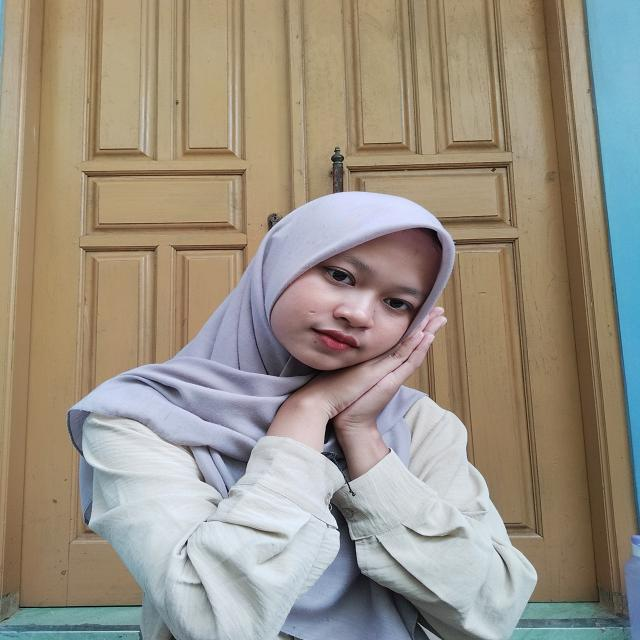tidur: (246, 309, 447, 472)
